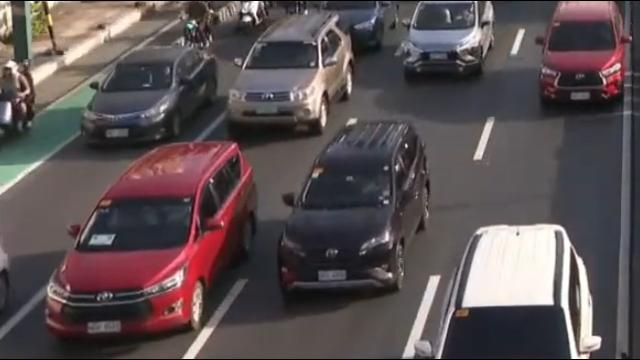car: (44, 143, 258, 359), (276, 107, 430, 305), (413, 222, 603, 360), (221, 9, 358, 142), (81, 48, 219, 144), (534, 0, 634, 114), (400, 0, 496, 80)
motorcycle: (0, 57, 36, 144), (184, 1, 216, 53), (237, 0, 275, 39)
